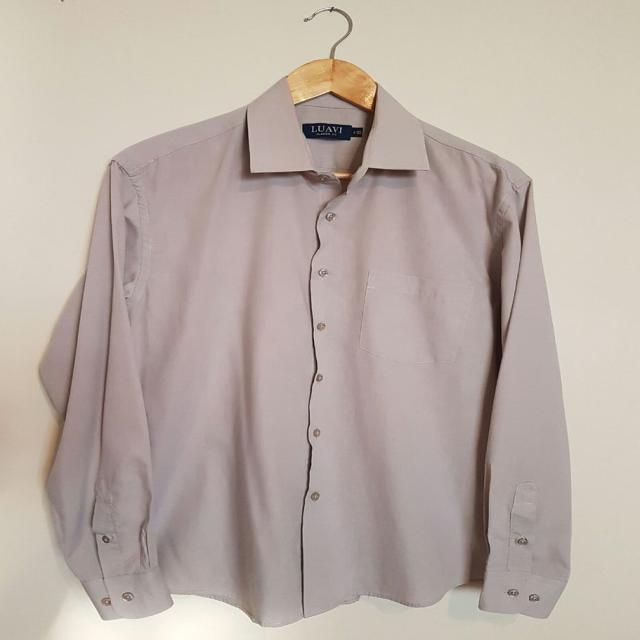long sleeve shirt: (36, 62, 575, 623)
